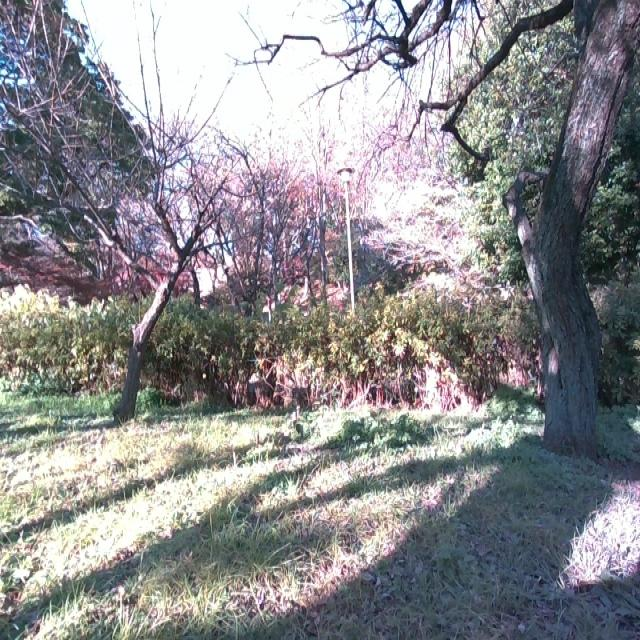bush: (2, 269, 640, 426)
tree: (247, 0, 640, 477), (21, 76, 248, 426)
